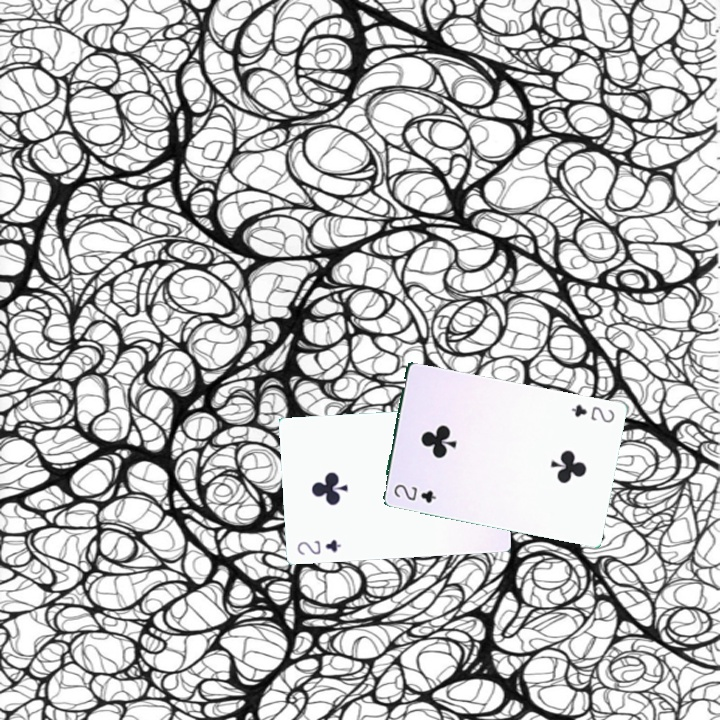2c: (567, 400, 617, 425), (390, 480, 439, 505), (293, 536, 344, 557)
